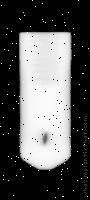Nobel Biocare: (19, 32, 72, 171)
